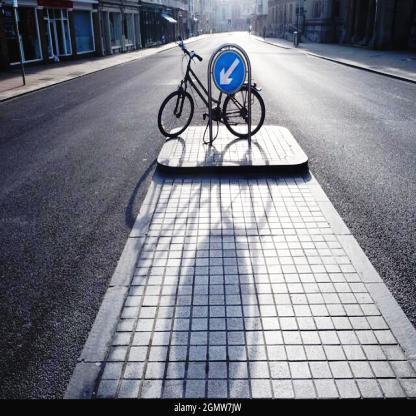Keep left: (210, 48, 251, 96)
